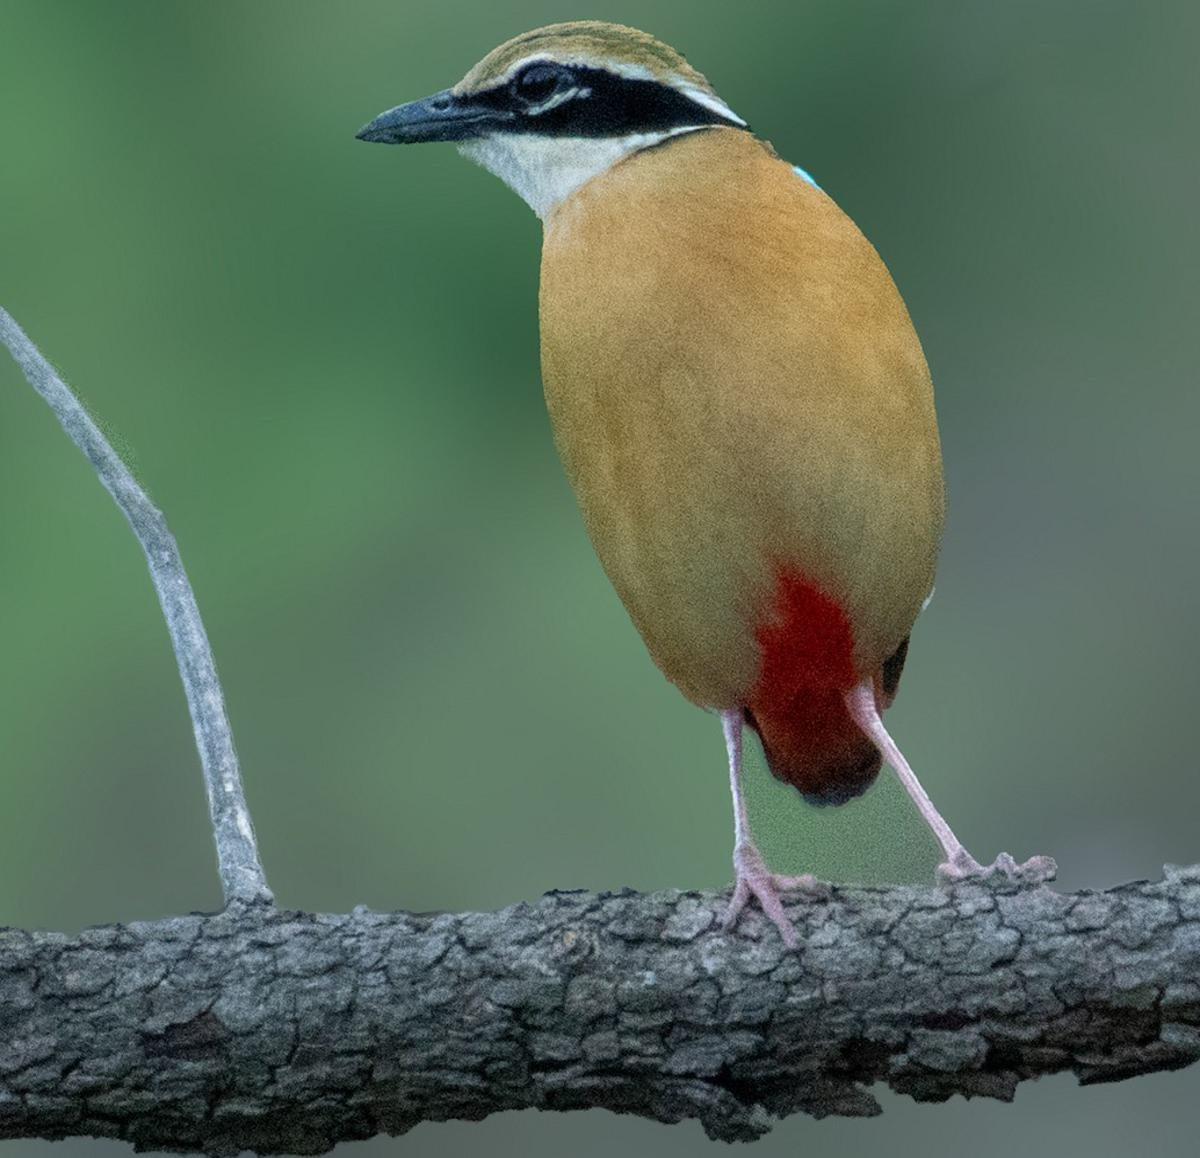pitta: (356, 19, 1022, 973)
